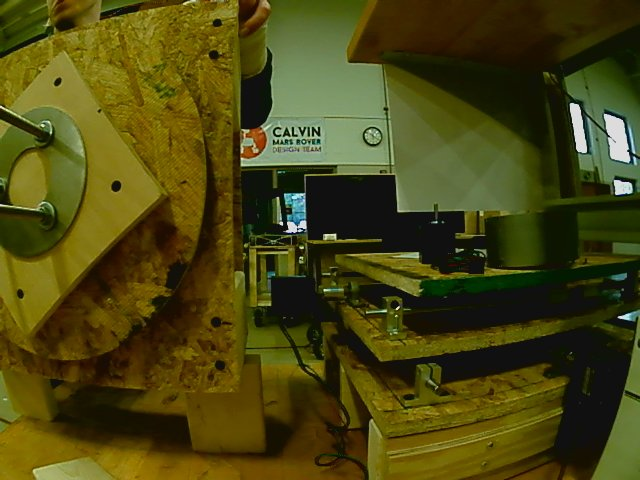bolt: (35, 201, 59, 232), (32, 119, 55, 148)
